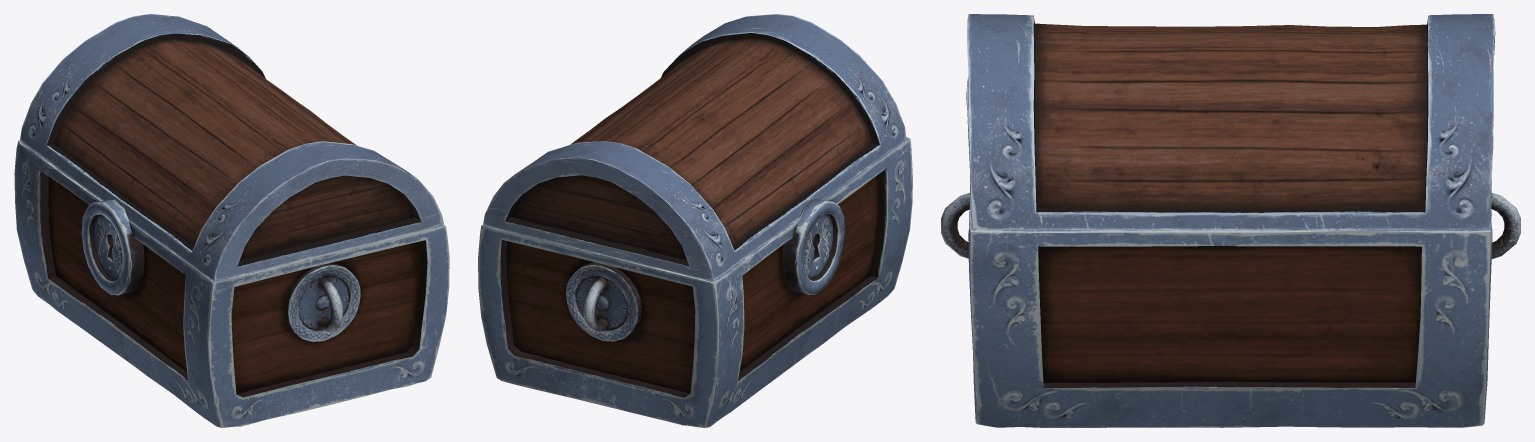
The model's file is ChestGLTF.gltf.
The picture shows the model from 3 angles, left to right: view 1: azimuth 30°, elevation 25°; view 2: azimuth 150°, elevation 25°; view 3: azimuth 270°, elevation 25°; orthographic projection. The views are drawn at different scales.
Parts seen in each view (by area): view 1: LOW1, LOW2; view 2: LOW1, LOW2; view 3: LOW1, LOW2.
Part boxes in pixels (x1=…): LOW1: x1=20, y1=14, x2=443, y2=280; LOW2: x1=14, y1=140, x2=449, y2=427; LOW1: x1=483, y1=14, x2=906, y2=280; LOW2: x1=478, y1=137, x2=912, y2=427; LOW1: x1=967, y1=14, x2=1495, y2=230; LOW2: x1=941, y1=78, x2=1520, y2=427.
Bounding box in the file's own units: 0.6863 × 0.6533 × 1.04.
2 materials, 2 textured.
